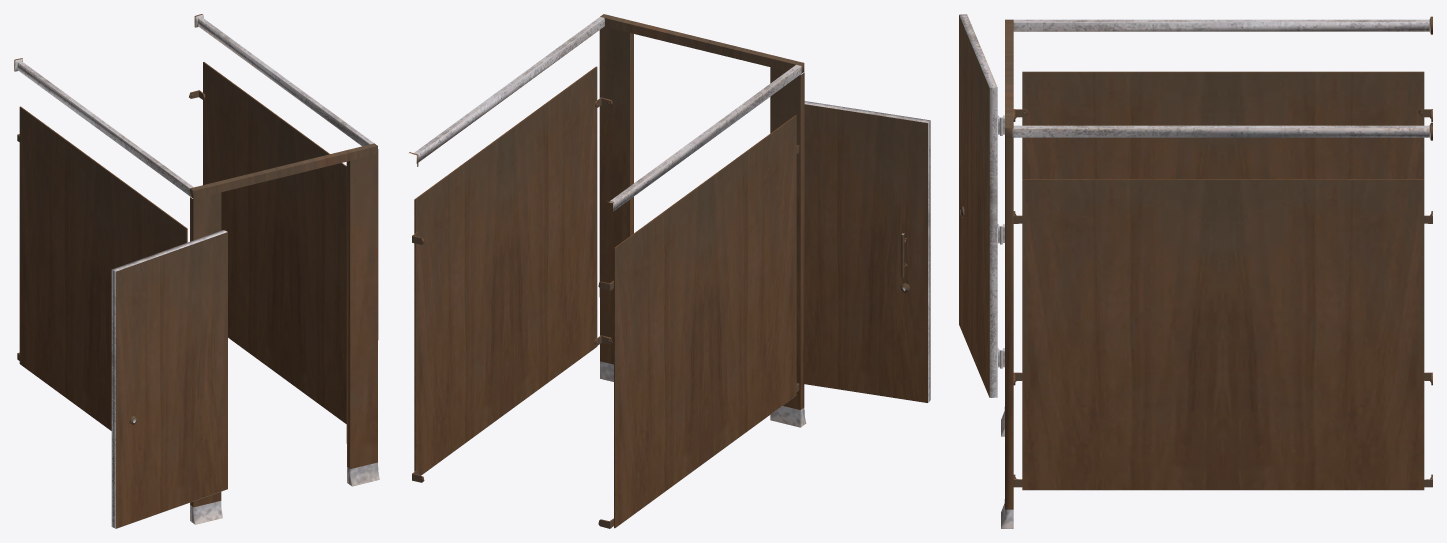
File: bathroom_stall_c.glb
3 views of the same model, side by side, from view 1: azimuth 30°, elevation 25°; view 2: azimuth 150°, elevation 25°; view 3: azimuth 270°, elevation 25° (orthographic). The views are drawn at different scales.
Parts seen in each view (by area): view 1: bathroom_stall_c; view 2: bathroom_stall_c; view 3: bathroom_stall_c.
Boxes of the visible parts, bbox=[...] form: bathroom_stall_c: bbox=[14, 14, 379, 528]; bathroom_stall_c: bbox=[409, 14, 930, 528]; bathroom_stall_c: bbox=[959, 14, 1432, 528].
Bounding box in the file's own units: 2.31 × 2.6 × 2.77.
Materials: 1 (1 with a texture image).
